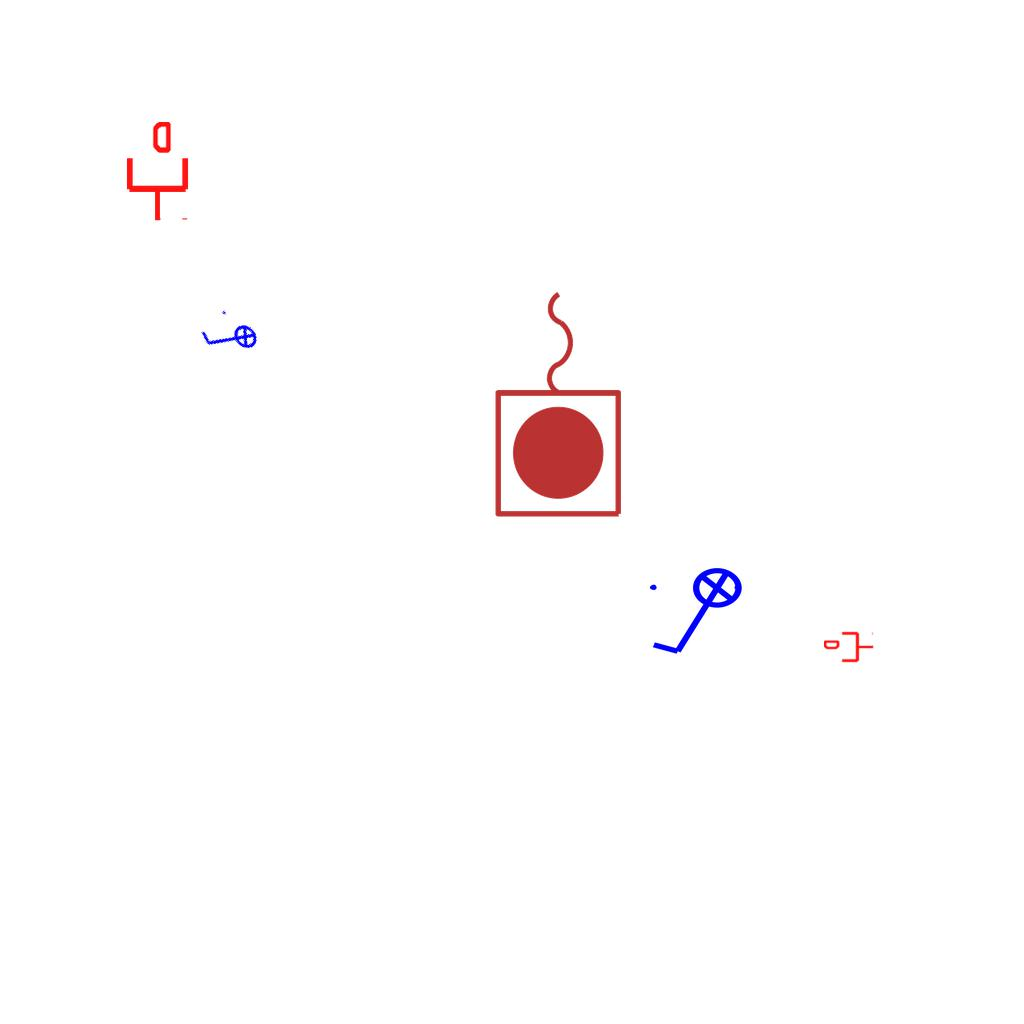Ausschalter_beleuchtet: (644, 566, 756, 662), (193, 302, 267, 376)
Datenanschluss_einfach: (123, 122, 192, 222), (824, 630, 874, 664)
Zugtaster: (488, 281, 632, 525)
